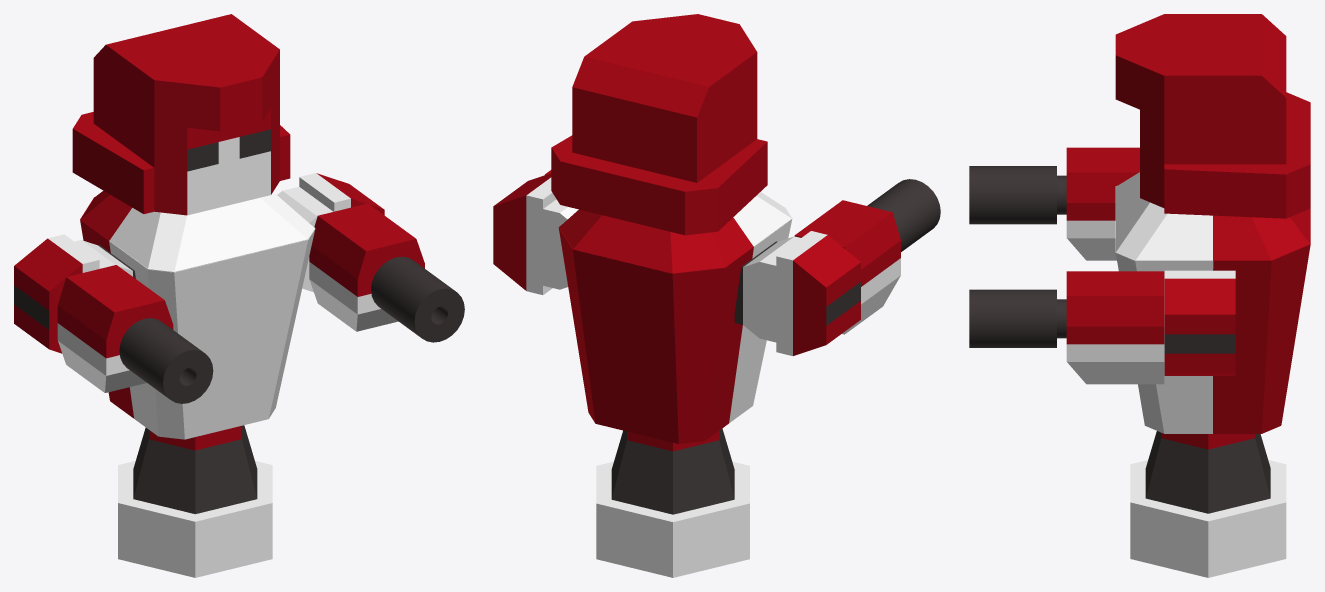
Rendered from EnemyRobot.fbx.
The picture shows the model from 3 angles, left to right: view 1: azimuth 30°, elevation 25°; view 2: azimuth 150°, elevation 25°; view 3: azimuth 270°, elevation 25°; orthographic projection.
Visible parts, largest first — view 1: head_classic, mediumBlaster_barrelSilencer (×2), hull_front, engine_turbine, hull_tail, largeBlaster_center (×2); view 2: head_classic, hull_front, engine_turbine, largeBlaster_center (×2), hull_tail, mediumBlaster_barrelSilencer; view 3: head_classic, mediumBlaster_barrelSilencer (×2), engine_turbine, hull_front, hull_tail, largeBlaster_center.
Boxes of the visible parts, x1=… form: head_classic: x1=72, y1=14, x2=290, y2=215; mediumBlaster_barrelSilencer (×2): x1=57, y1=203, x2=464, y2=403; hull_front: x1=80, y1=197, x2=315, y2=439; engine_turbine: x1=118, y1=425, x2=272, y2=577; hull_tail: x1=80, y1=191, x2=314, y2=272; largeBlaster_center (×2): x1=14, y1=173, x2=384, y2=353; head_classic: x1=551, y1=14, x2=767, y2=235; hull_front: x1=558, y1=207, x2=792, y2=443; engine_turbine: x1=596, y1=428, x2=749, y2=577; largeBlaster_center (×2): x1=493, y1=173, x2=860, y2=355; hull_tail: x1=559, y1=192, x2=791, y2=273; mediumBlaster_barrelSilencer: x1=794, y1=179, x2=940, y2=334; head_classic: x1=1115, y1=14, x2=1310, y2=218; mediumBlaster_barrelSilencer (×2): x1=969, y1=147, x2=1164, y2=384; engine_turbine: x1=1130, y1=431, x2=1286, y2=577; hull_front: x1=1115, y1=186, x2=1310, y2=433; hull_tail: x1=1116, y1=172, x2=1310, y2=260; largeBlaster_center: x1=1164, y1=270, x2=1235, y2=375.
Bounding box in the file's own units: 0.08 × 0.112 × 0.07.
